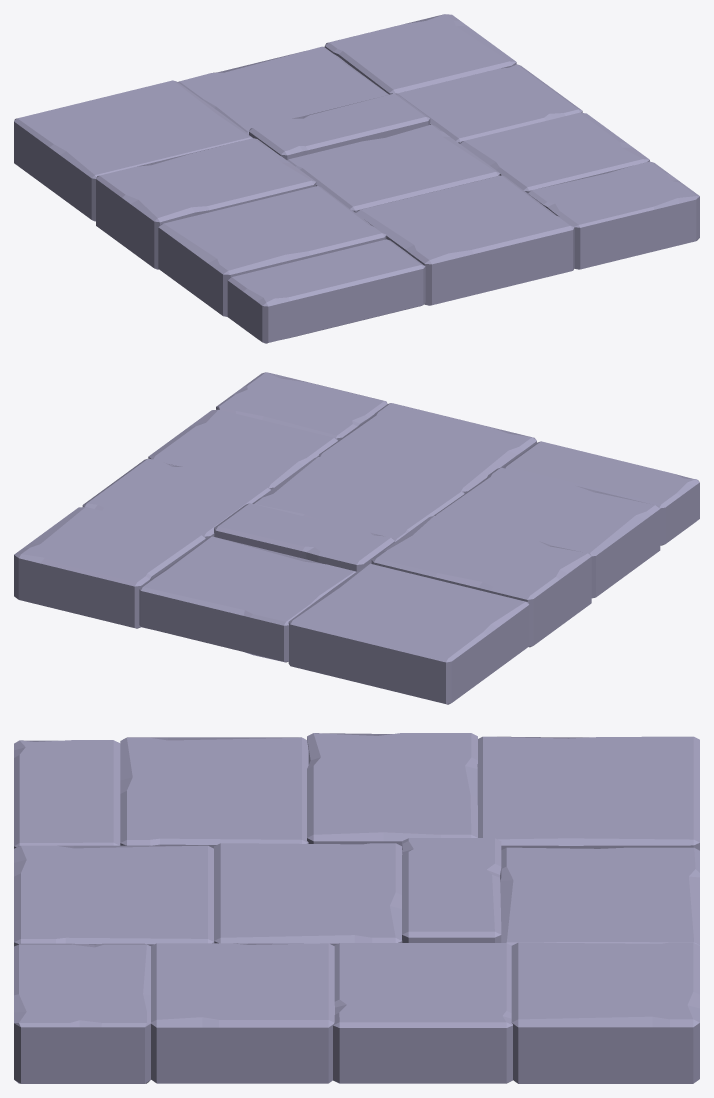
File: stone_road.glb
3 renders of one model, top to bottom at view 1: azimuth 30°, elevation 25°; view 2: azimuth 150°, elevation 25°; view 3: azimuth 270°, elevation 25°, orthographic. The views are drawn at different scales.
Visible parts, largest first — view 1: Floor_Modular; view 2: Floor_Modular; view 3: Floor_Modular.
Part boxes in pixels (x1=…): Floor_Modular: x1=14, y1=14, x2=699, y2=343; Floor_Modular: x1=14, y1=372, x2=699, y2=704; Floor_Modular: x1=14, y1=733, x2=699, y2=1083.
Bounding box in the file's own units: 1 × 0.12 × 1.
